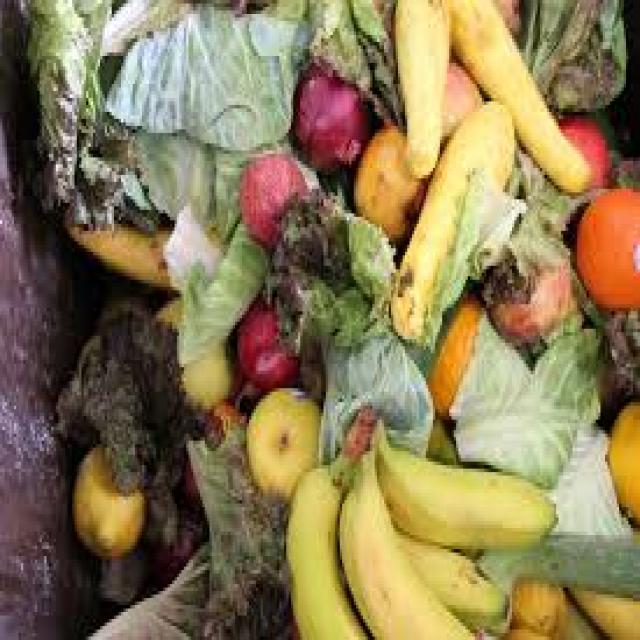food_waste: (97, 36, 623, 623)
